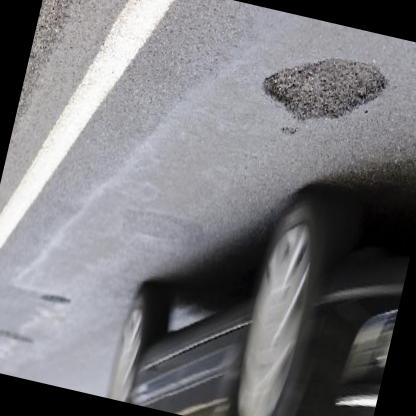pothole: (254, 36, 394, 139)
